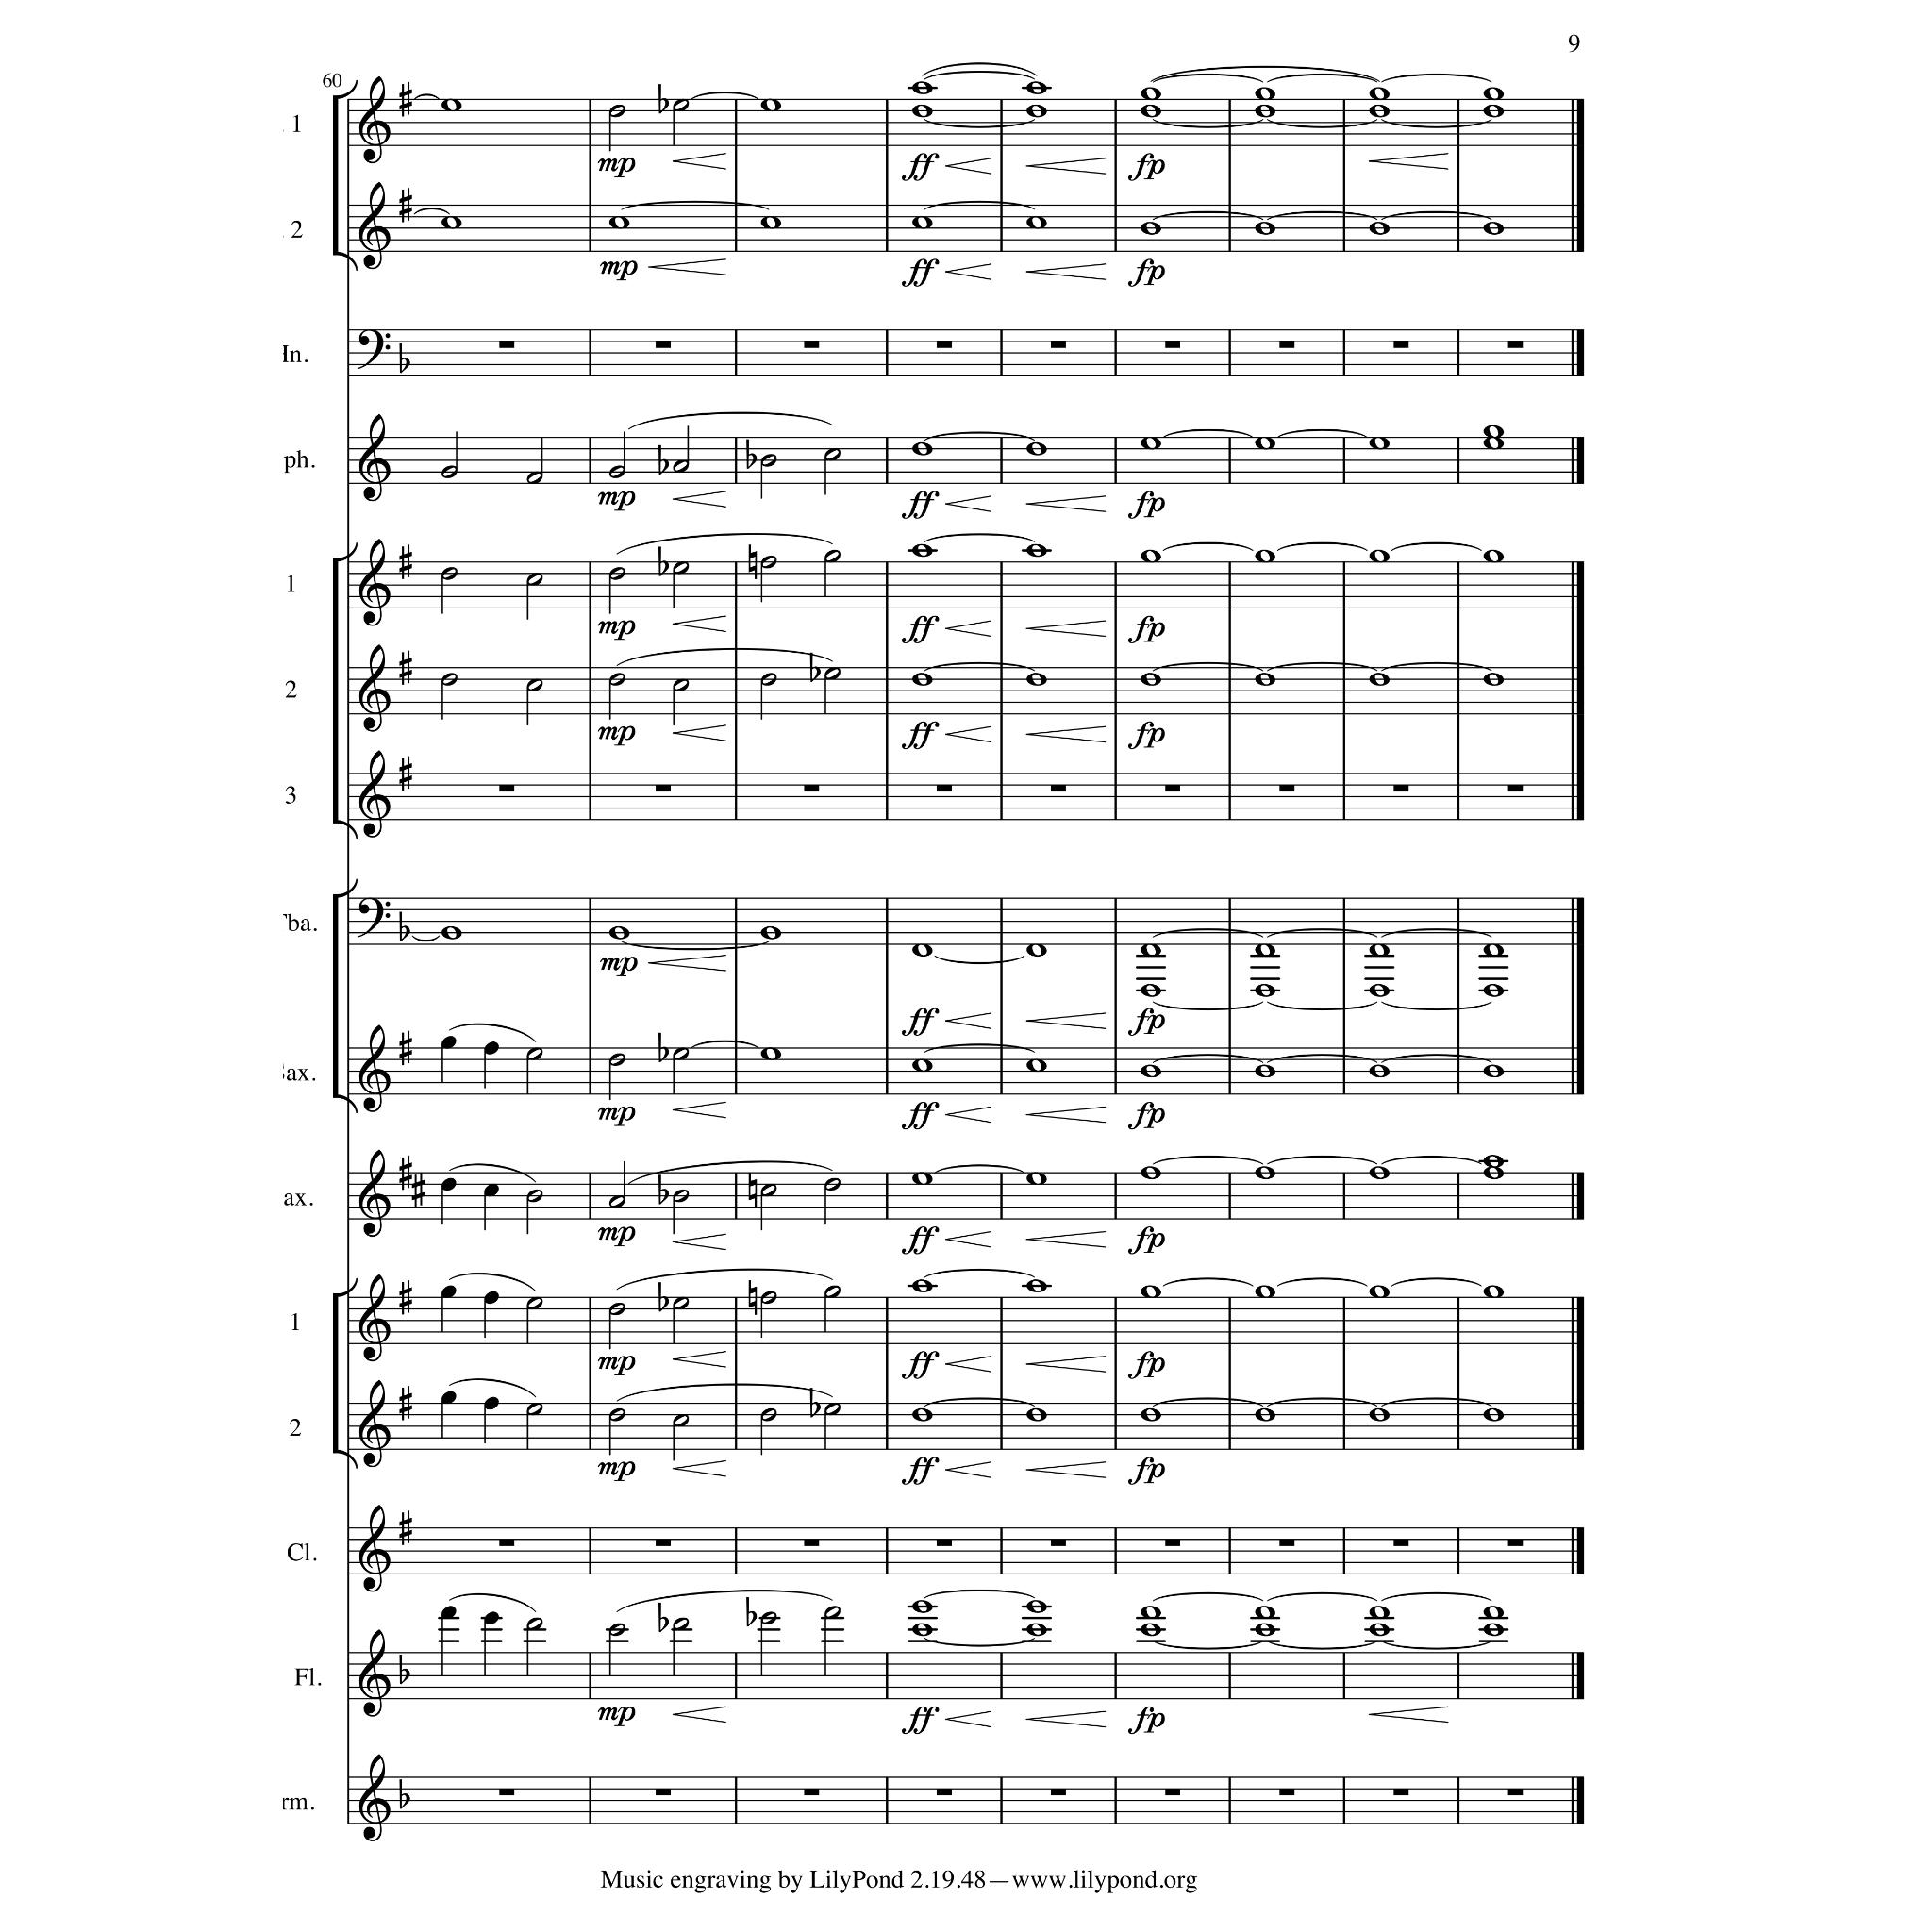fClef: (357, 897, 391, 938), (357, 329, 391, 370)
gClef: (359, 538, 391, 628), (359, 182, 391, 271), (359, 76, 391, 165), (359, 644, 391, 732), (359, 750, 391, 839), (359, 414, 391, 502), (359, 1024, 391, 1113), (359, 1380, 391, 1468), (359, 1629, 391, 1718), (359, 1504, 391, 1592), (359, 1753, 391, 1842), (359, 1274, 391, 1362), (359, 1150, 391, 1237)
noteheadBlack: (483, 1184, 499, 1198), (441, 1035, 456, 1049), (483, 1398, 499, 1410), (483, 1612, 499, 1624), (483, 1292, 499, 1304), (483, 1042, 499, 1054), (441, 1606, 456, 1619), (441, 1391, 456, 1403), (441, 1286, 456, 1299), (441, 1178, 456, 1191)
noteheadHalf: (609, 1408, 626, 1422), (609, 1302, 626, 1316), (609, 566, 626, 580), (609, 465, 626, 479), (609, 104, 626, 119), (441, 566, 458, 580), (441, 465, 458, 479), (823, 448, 840, 462), (527, 1189, 543, 1203), (527, 1617, 543, 1631), (527, 1297, 543, 1311), (527, 1047, 543, 1062), (527, 571, 543, 586), (672, 1047, 688, 1062), (672, 1617, 688, 1631), (672, 1414, 688, 1428), (672, 1297, 688, 1311), (672, 1189, 688, 1203), (672, 561, 688, 575), (761, 1408, 777, 1422), (761, 1184, 777, 1198), (761, 556, 777, 570), (761, 453, 777, 467), (609, 1624, 626, 1637), (609, 1196, 626, 1208), (609, 1054, 626, 1067), (609, 674, 626, 686), (441, 674, 458, 686), (823, 1286, 840, 1299), (823, 1178, 840, 1191), (823, 1403, 840, 1415), (823, 1606, 840, 1619), (823, 667, 840, 679), (823, 550, 840, 563), (527, 1403, 543, 1415), (527, 679, 543, 692), (527, 472, 543, 485), (672, 679, 688, 692), (672, 460, 688, 472), (672, 99, 688, 111), (761, 1612, 777, 1624), (761, 1292, 777, 1304), (761, 674, 777, 686)
noteheadWhole: (1139, 437, 1162, 451), (1368, 1408, 1391, 1422), (1368, 1166, 1391, 1180), (1139, 221, 1162, 235), (1368, 87, 1391, 101), (1368, 943, 1391, 957), (1368, 984, 1391, 998), (1368, 672, 1391, 686), (1368, 437, 1391, 451), (1368, 221, 1391, 235), (1368, 104, 1391, 119), (1139, 672, 1162, 686), (1139, 1166, 1162, 1180), (1139, 984, 1162, 998), (1139, 943, 1162, 957), (1139, 1408, 1162, 1422), (1139, 87, 1162, 101), (441, 216, 464, 230), (441, 99, 464, 113), (911, 1599, 934, 1614), (1139, 104, 1162, 119), (759, 1047, 782, 1062), (759, 216, 782, 230), (759, 99, 782, 113), (911, 543, 934, 557), (911, 1408, 934, 1422), (911, 1279, 934, 1293), (911, 1173, 934, 1187), (911, 1060, 934, 1074), (911, 943, 934, 957), (911, 672, 934, 686), (911, 442, 934, 456), (911, 216, 934, 230), (911, 81, 934, 96), (911, 104, 934, 119), (1254, 1408, 1276, 1422), (1254, 1166, 1276, 1180), (1254, 943, 1276, 957), (1254, 984, 1276, 998), (1254, 672, 1276, 686), (1254, 437, 1276, 451), (1254, 221, 1276, 235), (1254, 87, 1276, 101), (1254, 104, 1276, 119), (1483, 425, 1504, 439), (1483, 437, 1504, 451), (1483, 221, 1504, 235), (1483, 87, 1504, 101), (1483, 104, 1504, 119), (1483, 672, 1504, 686), (1483, 1408, 1504, 1422), (1483, 1154, 1504, 1168), (1483, 1166, 1504, 1180), (1483, 943, 1504, 957), (1483, 984, 1504, 998), (609, 216, 630, 230), (1026, 543, 1047, 557), (1026, 442, 1047, 456), (1026, 216, 1047, 230), (1026, 81, 1047, 96), (1026, 104, 1047, 119), (1026, 672, 1047, 686), (1026, 1599, 1047, 1614), (1026, 1408, 1047, 1422), (1026, 1279, 1047, 1293), (1026, 1173, 1047, 1187), (1026, 1060, 1047, 1074), (1026, 943, 1047, 957), (1368, 1606, 1391, 1619), (1368, 1624, 1391, 1637), (1368, 1065, 1391, 1077), (1368, 1286, 1391, 1299), (1368, 550, 1391, 563), (1139, 1065, 1162, 1077), (1139, 1286, 1162, 1299), (1139, 1624, 1162, 1637), (1139, 1606, 1162, 1619), (1139, 550, 1162, 563), (441, 927, 464, 939), (911, 1624, 934, 1637), (759, 927, 782, 939), (1254, 1065, 1276, 1077), (1254, 1606, 1276, 1619), (1254, 1624, 1276, 1637), (1254, 1286, 1276, 1299), (1254, 550, 1276, 563), (1483, 550, 1504, 563), (1483, 1606, 1504, 1619), (1483, 1624, 1504, 1637), (1483, 1286, 1504, 1299), (1483, 1065, 1504, 1077), (609, 927, 630, 939), (1026, 1624, 1047, 1637)
restWhole: (1164, 1789, 1180, 1796), (1164, 341, 1180, 349), (1164, 786, 1180, 793), (1164, 1539, 1180, 1546), (1051, 341, 1067, 349), (1051, 786, 1067, 793), (1051, 1539, 1067, 1546), (1051, 1789, 1067, 1796), (1392, 341, 1408, 349), (1392, 786, 1408, 793), (1392, 1539, 1408, 1546), (1392, 1789, 1408, 1796), (1279, 341, 1295, 349), (1279, 786, 1295, 793), (1279, 1539, 1295, 1546), (1279, 1789, 1295, 1796), (655, 341, 671, 349), (655, 786, 671, 793), (655, 1539, 671, 1546), (655, 1789, 671, 1796), (936, 1539, 952, 1546), (936, 1789, 952, 1796), (803, 341, 819, 349), (803, 786, 819, 793), (803, 1539, 819, 1546), (803, 1789, 819, 1796), (936, 341, 952, 349), (936, 786, 952, 793), (1507, 786, 1523, 793), (1507, 1789, 1523, 1796), (1507, 1539, 1523, 1546), (1507, 341, 1523, 349), (499, 1789, 515, 1796), (499, 1539, 515, 1546), (499, 786, 515, 793), (499, 341, 515, 349)
